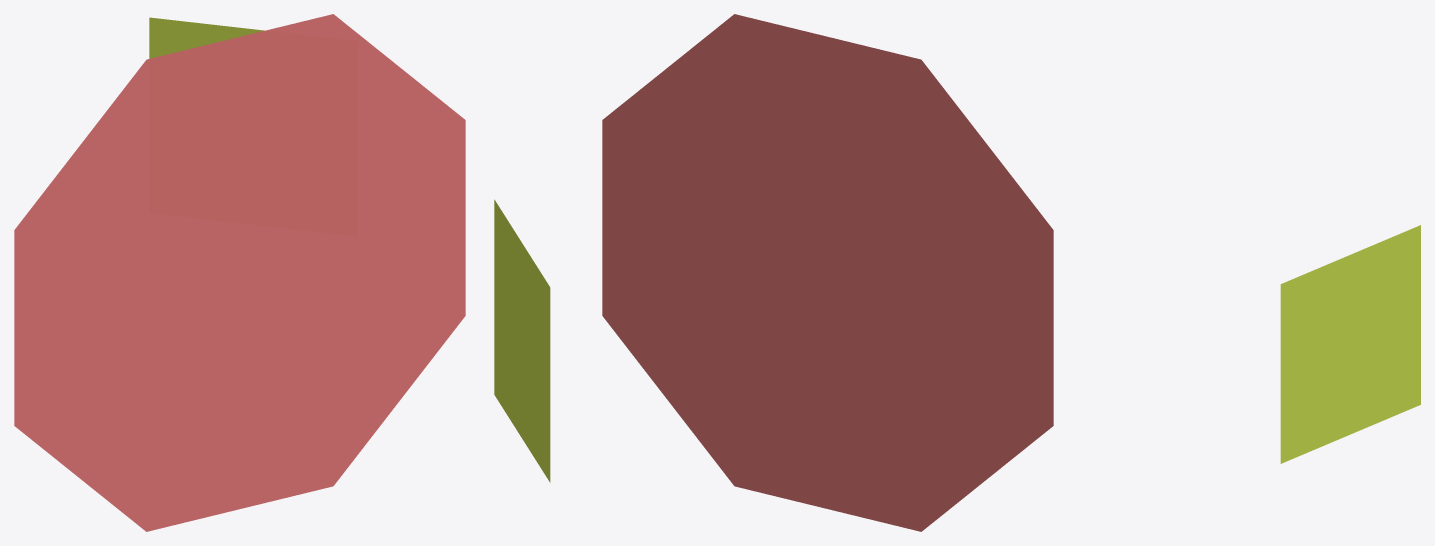
File: SmallRhombihexahedronF.obj
3 renders of one model, left to right at view 1: azimuth 30°, elevation 25°; view 2: azimuth 150°, elevation 25°; view 3: azimuth 270°, elevation 25°, orthographic. The views are drawn at different scales.
Bounding box in the file's own units: 2.41 × 2.41 × 1.71.
